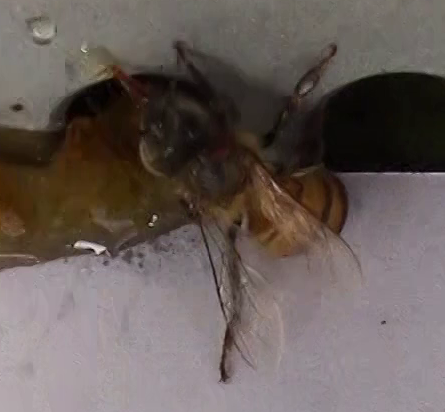Varroa destructor: (202, 129, 237, 160)
